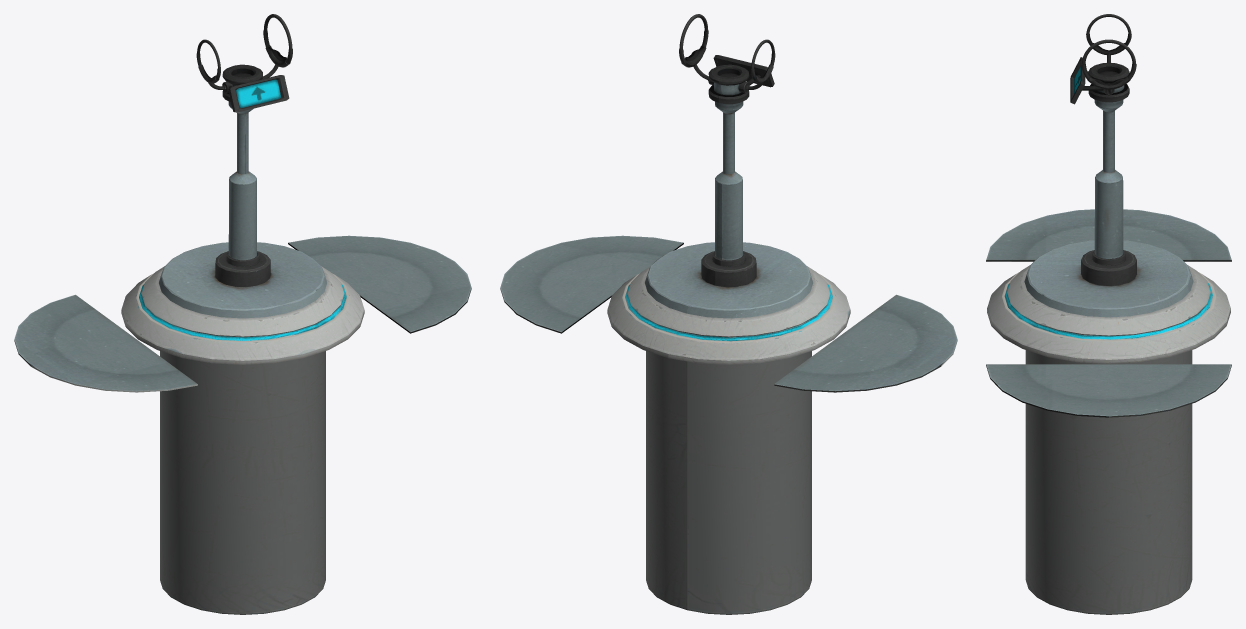
The model's file is Portalgun_pedestal.obj.
3 views of the same model, side by side, from view 1: azimuth 30°, elevation 25°; view 2: azimuth 150°, elevation 25°; view 3: azimuth 270°, elevation 25° (orthographic).
Parts seen in each view (by area): view 1: g0; view 2: g0; view 3: g0.
Boxes of the visible parts, x1,y1,x2,y2 form: g0: [14, 14, 471, 614]; g0: [500, 14, 957, 614]; g0: [986, 14, 1231, 614].
Bounding box in the file's own units: 79.93 × 99.91 × 39.93.
Materials: 1 (1 with a texture image).
